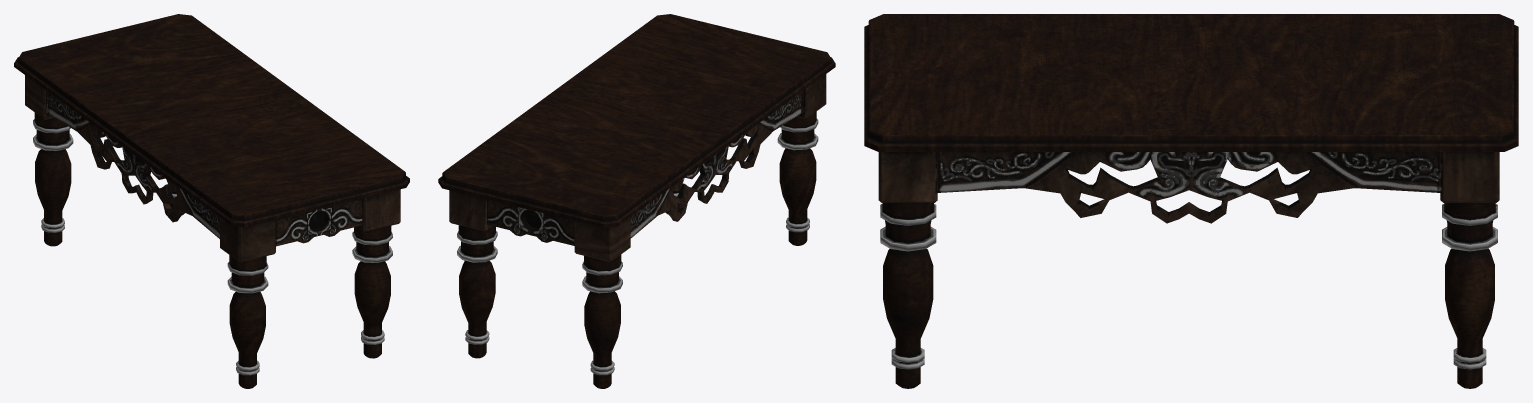
File: table.glb
3 views of the same model, side by side, from view 1: azimuth 30°, elevation 25°; view 2: azimuth 150°, elevation 25°; view 3: azimuth 270°, elevation 25° (orthographic). The views are drawn at different scales.
Visible parts, largest first — view 1: g; view 2: g; view 3: g.
Part boxes in pixels (<box>): g: <box>14,14,409,388</box>; g: <box>438,14,835,388</box>; g: <box>864,14,1518,388</box>.
Size of the model in its own units: 0.9103 by 0.8985 by 2.
1 material, 1 textured.
